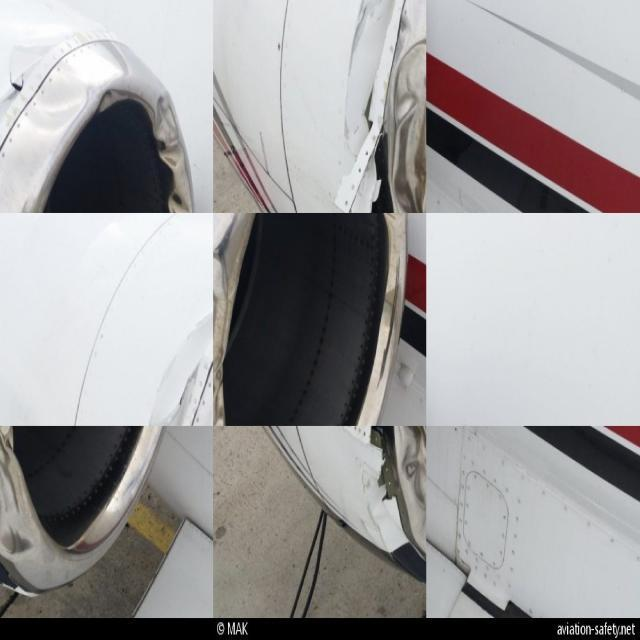dent: (28, 79, 88, 134), (1, 471, 35, 550), (156, 94, 184, 169)
